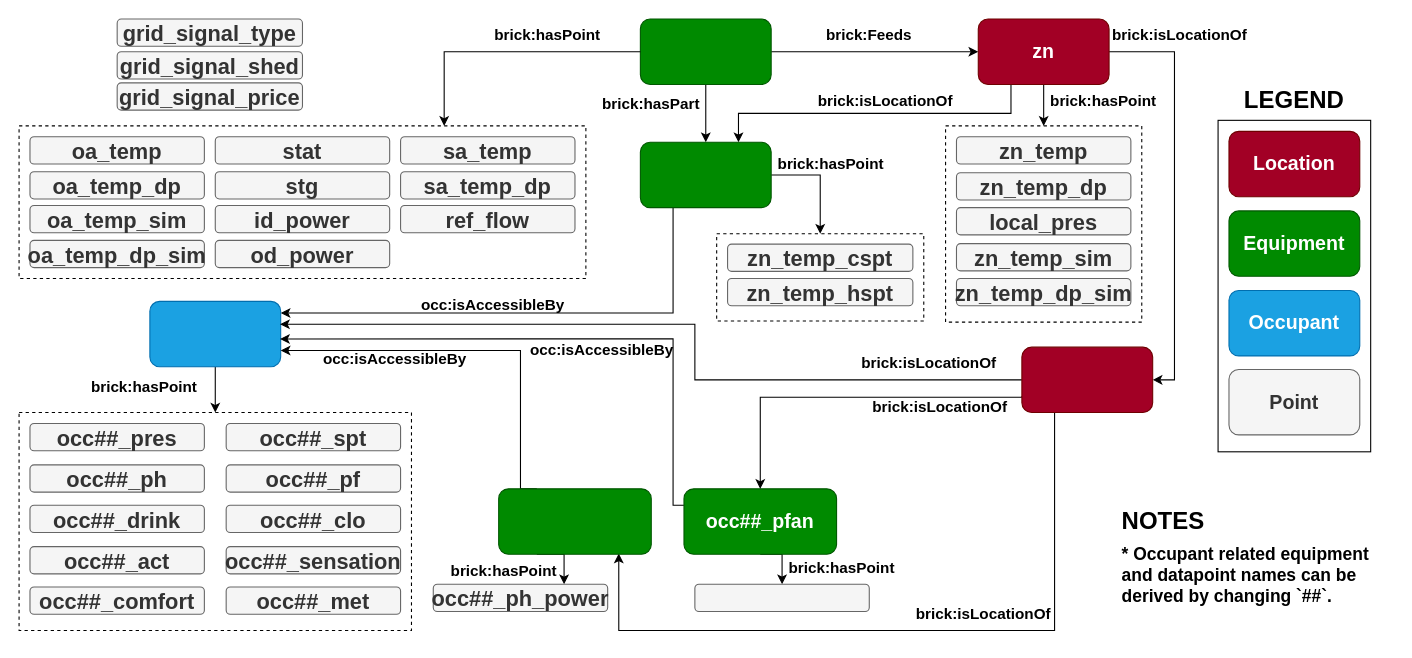
This 1412x658 diagram has some shape labels left out. The box of each missing label's shape, as (x1, y1, x2, y2) in pixels:
ASHP: (639, 18, 771, 84)
occ##: (149, 300, 281, 367)
occ##_loc: (1021, 346, 1153, 413)
occ##_pf_power: (694, 583, 869, 611)
occ##_pheater: (498, 488, 651, 554)
tstat: (639, 141, 771, 208)
